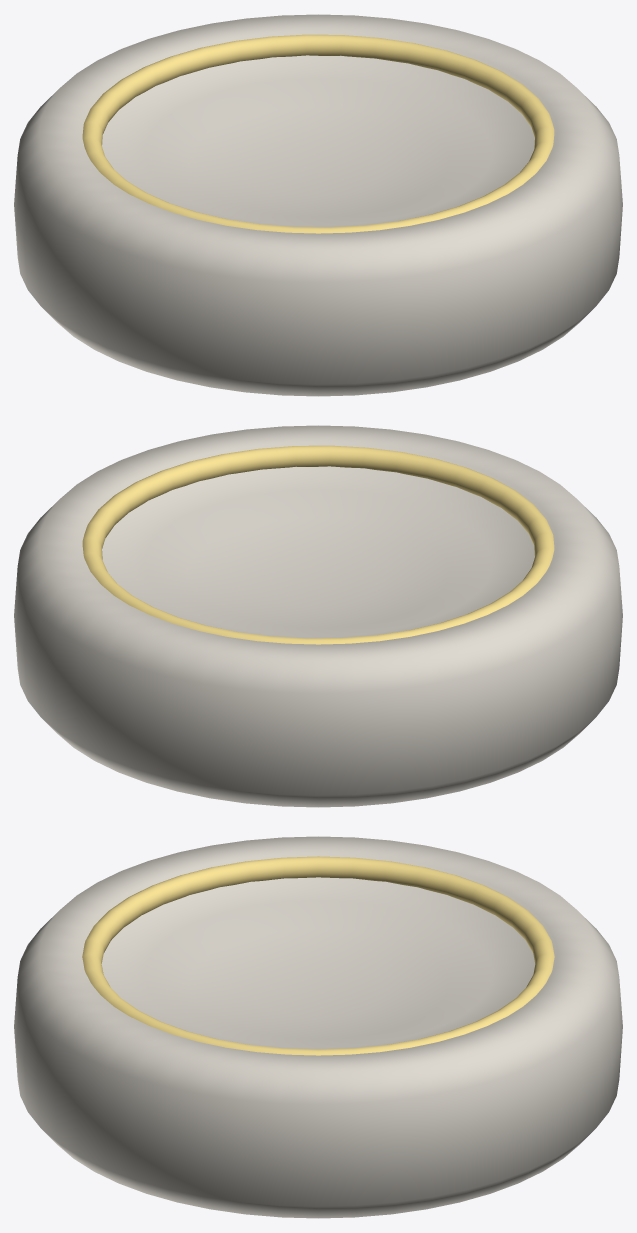
File: backgammon_checker.glb
3 views of the same model, one above another, from view 1: azimuth 30°, elevation 25°; view 2: azimuth 150°, elevation 25°; view 3: azimuth 270°, elevation 25° (orthographic).
Parts seen in each view (by area): view 1: CheckerBody, CheckerGoldRing; view 2: CheckerBody, CheckerGoldRing; view 3: CheckerBody, CheckerGoldRing.
Part boxes in pixels (left/top/right/bottom): CheckerBody: left=14, top=14, right=622, bottom=396; CheckerGoldRing: left=82, top=34, right=554, bottom=233; CheckerBody: left=14, top=425, right=622, bottom=807; CheckerGoldRing: left=82, top=445, right=554, bottom=644; CheckerBody: left=14, top=836, right=622, bottom=1218; CheckerGoldRing: left=82, top=856, right=554, bottom=1055.
Bounding box in the file's own units: 0.84 × 0.2206 × 0.84.
